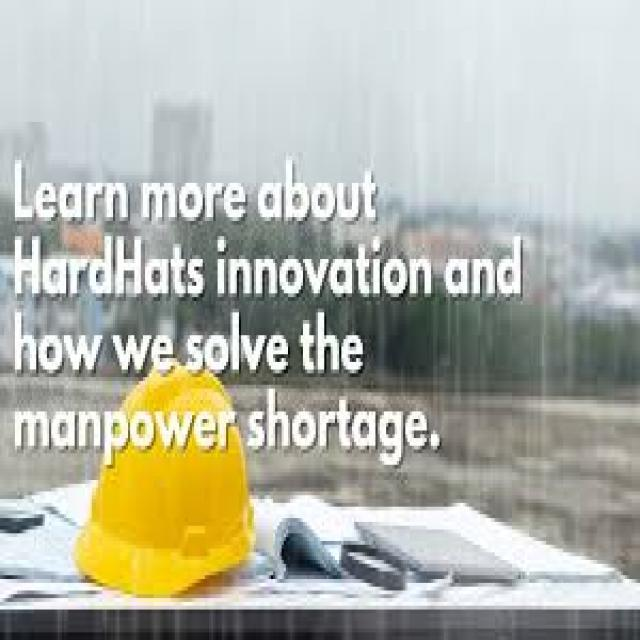safety_helmet: (68, 350, 262, 609)
